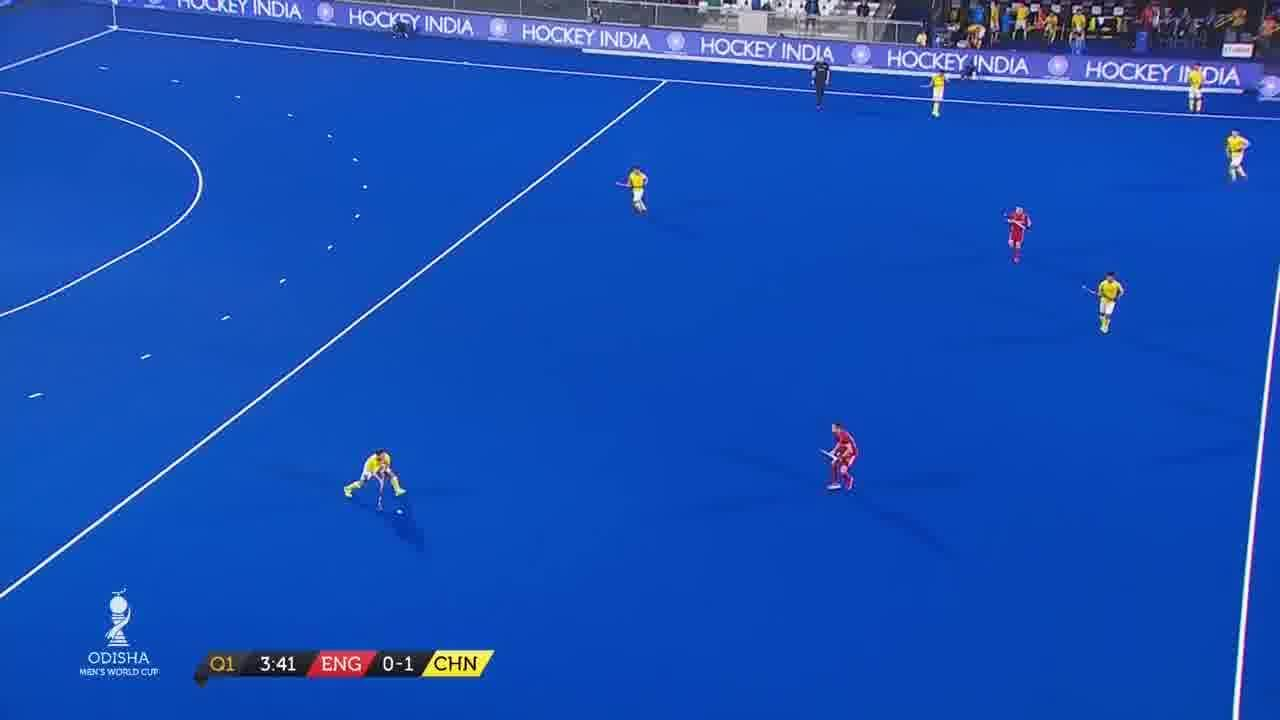ball: (394, 502, 408, 521)
